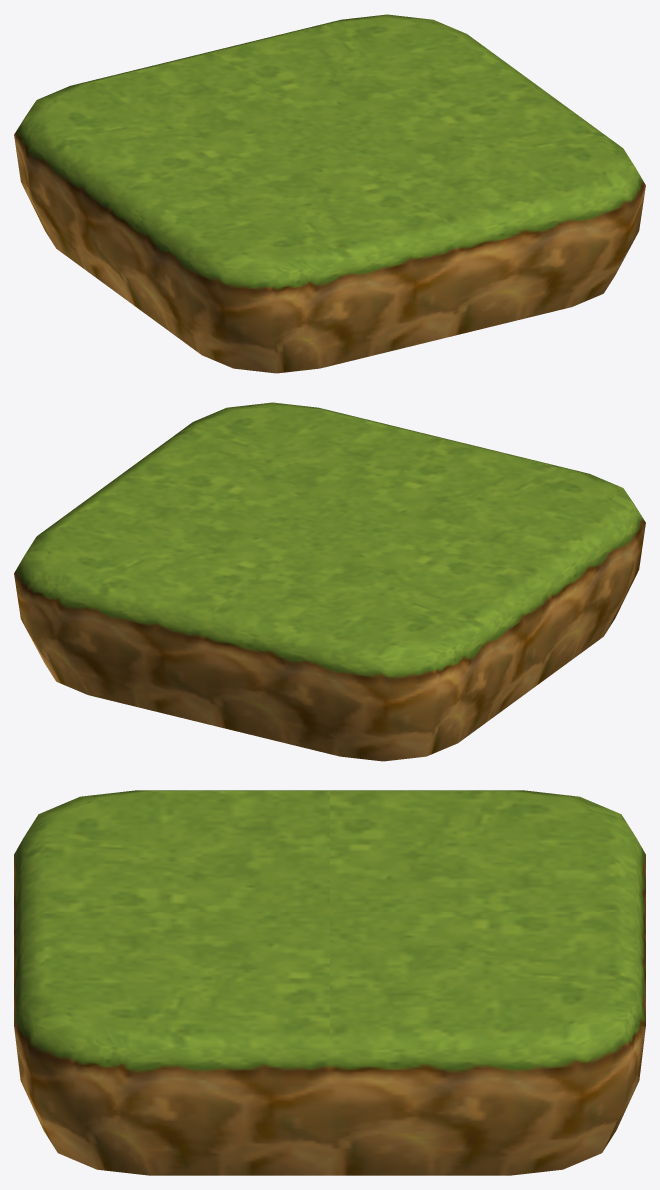
The model's file is Floating_floor01_22.fbx.
The picture shows the model from 3 angles, top to bottom: view 1: azimuth 30°, elevation 25°; view 2: azimuth 150°, elevation 25°; view 3: azimuth 270°, elevation 25°; orthographic projection. The views are drawn at different scales.
Visible parts, largest first — view 1: Floating_floor01_22; view 2: Floating_floor01_22; view 3: Floating_floor01_22.
Part boxes in pixels (x1,y1,x2,y2): Floating_floor01_22: (14,14,645,373); Floating_floor01_22: (14,402,645,761); Floating_floor01_22: (14,790,645,1175).
Bounding box in the file's own units: 2 × 0.5 × 2.
